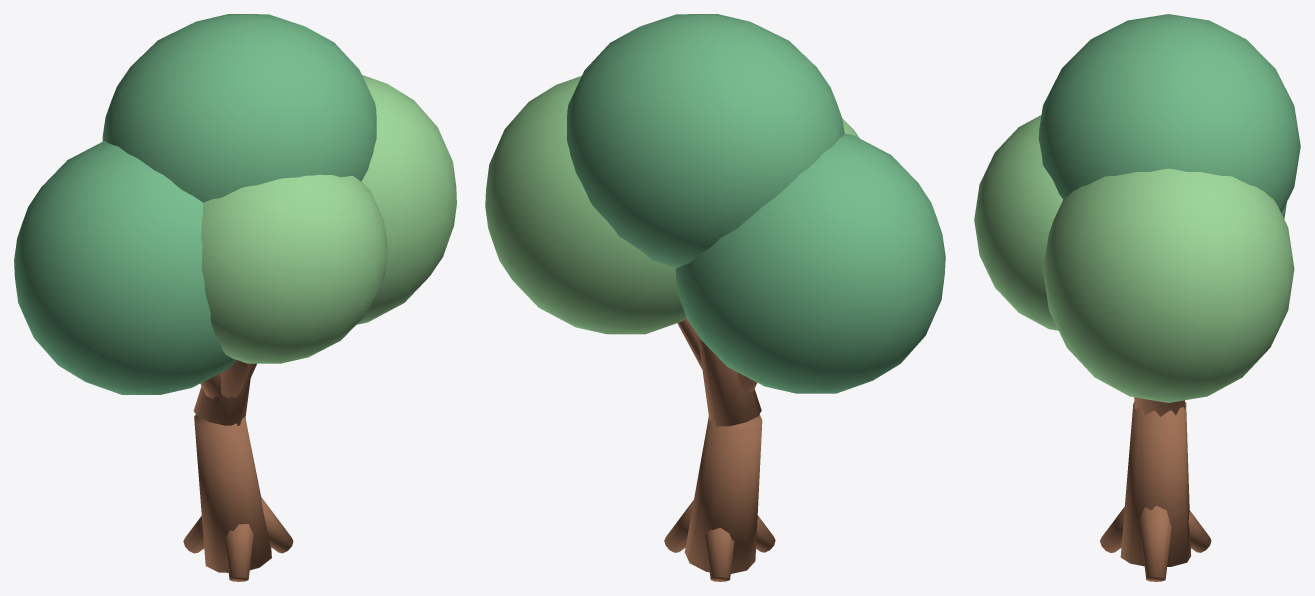
The model's file is Round_maple.fbx.
3 renders of one model, left to right at view 1: azimuth 30°, elevation 25°; view 2: azimuth 150°, elevation 25°; view 3: azimuth 270°, elevation 25°, orthographic.
Parts seen in each view (by area): view 1: Toon_Round_maple Canopy.004, Toon_Round_maple Canopy.006, Toon_Round_maple Canopy.007, Toon_Round_maple Canopy.005, Toon_Round_maple Curving trunk lower.001, Toon_Round_maple Curving trunk upper.001, Toon_Round_maple Root flare.005, Toon_Round_maple Root flare.003, Toon_Round_maple Branch.007; view 2: Toon_Round_maple Canopy.006, Toon_Round_maple Canopy.004, Toon_Round_maple Canopy.005, Toon_Round_maple Curving trunk lower.001, Toon_Round_maple Curving trunk upper.001, Toon_Round_maple Root flare.004, Toon_Round_maple Root flare.003; view 3: Toon_Round_maple Canopy.005, Toon_Round_maple Canopy.006, Toon_Round_maple Canopy.007, Toon_Round_maple Curving trunk lower.001, Toon_Round_maple Root flare.003, Toon_Round_maple Root flare.005, Toon_Round_maple Curving trunk upper.001, Toon_Round_maple Root flare.004.
Boxes of the visible parts, <box> form: Toon_Round_maple Canopy.004: <box>14,140,236,394</box>; Toon_Round_maple Canopy.006: <box>102,14,376,202</box>; Toon_Round_maple Canopy.007: <box>201,174,387,363</box>; Toon_Round_maple Canopy.005: <box>356,75,456,324</box>; Toon_Round_maple Curving trunk lower.001: <box>194,415,271,572</box>; Toon_Round_maple Curving trunk upper.001: <box>193,363,251,425</box>; Toon_Round_maple Root flare.005: <box>224,524,253,581</box>; Toon_Round_maple Root flare.003: <box>261,497,293,553</box>; Toon_Round_maple Branch.007: <box>220,360,248,398</box>; Toon_Round_maple Canopy.006: <box>567,14,844,267</box>; Toon_Round_maple Canopy.004: <box>675,133,945,393</box>; Toon_Round_maple Canopy.005: <box>485,76,686,334</box>; Toon_Round_maple Curving trunk lower.001: <box>684,414,762,573</box>; Toon_Round_maple Curving trunk upper.001: <box>697,335,761,426</box>; Toon_Round_maple Root flare.004: <box>705,527,734,581</box>; Toon_Round_maple Root flare.003: <box>664,500,693,552</box>; Toon_Round_maple Canopy.005: <box>1043,168,1294,402</box>; Toon_Round_maple Canopy.006: <box>1038,14,1300,212</box>; Toon_Round_maple Canopy.007: <box>974,115,1062,330</box>; Toon_Round_maple Curving trunk lower.001: <box>1120,402,1191,566</box>; Toon_Round_maple Root flare.003: <box>1139,505,1171,581</box>; Toon_Round_maple Root flare.005: <box>1100,506,1124,552</box>; Toon_Round_maple Curving trunk upper.001: <box>1134,397,1185,416</box>; Toon_Round_maple Root flare.004: <box>1188,510,1211,552</box>.
Bounding box in the file's own units: 386 × 467 × 257.
